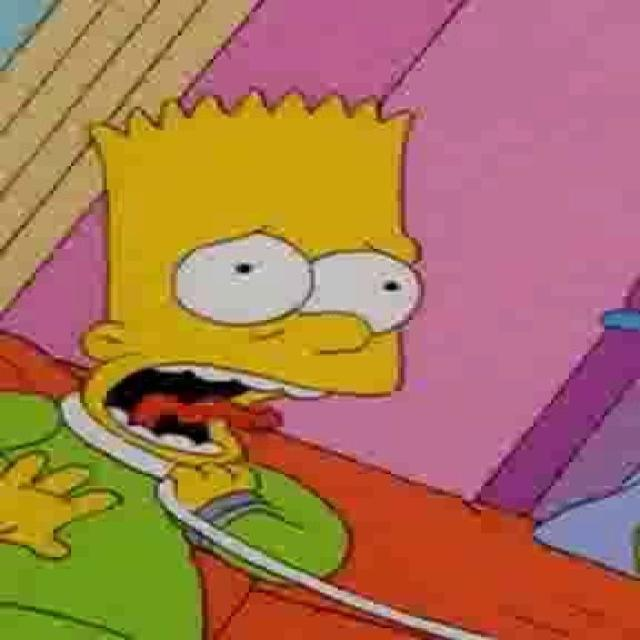Bart Simpson: (80, 88, 427, 476)
